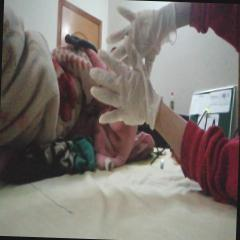gloved: (88, 35, 161, 130), (104, 0, 178, 79)
